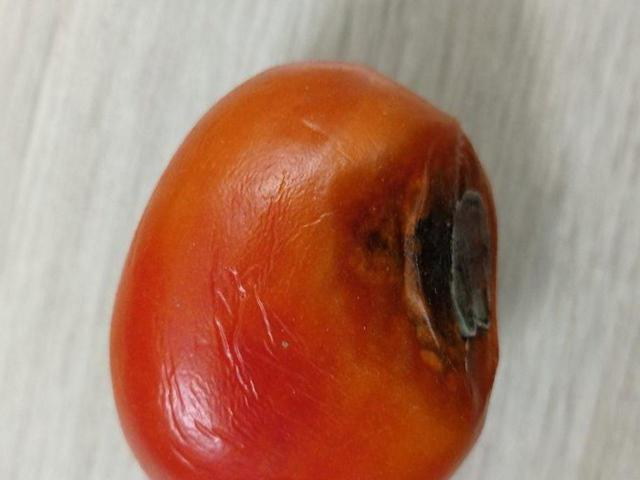defect: (102, 49, 510, 480)
